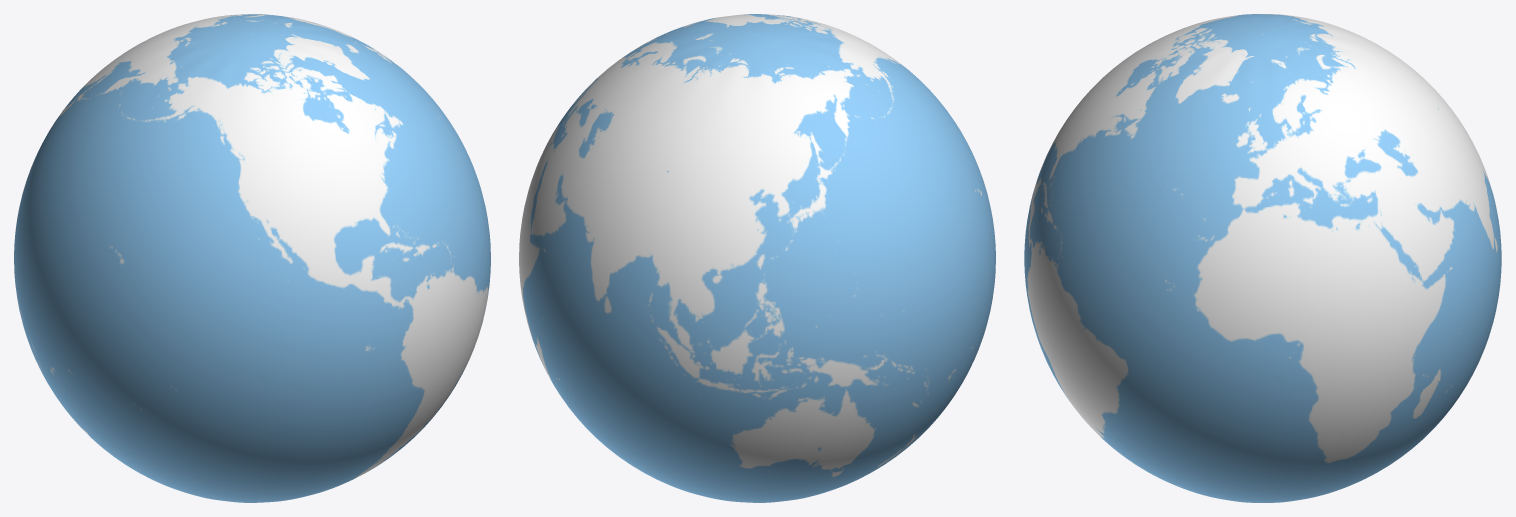
The model's file is earth.glb.
The picture shows the model from 3 angles, left to right: view 1: azimuth 30°, elevation 25°; view 2: azimuth 150°, elevation 25°; view 3: azimuth 270°, elevation 25°; orthographic projection.
Visible parts, largest first — view 1: Sphere; view 2: Sphere; view 3: Sphere.
Boxes of the visible parts, box(x1,y1,x2,y2) form: Sphere: box(14, 14, 490, 502); Sphere: box(519, 14, 995, 502); Sphere: box(1024, 14, 1501, 502).
Bounding box in the file's own units: 1.9 × 1.97 × 1.9.
Materials: 1 (1 with a texture image).
